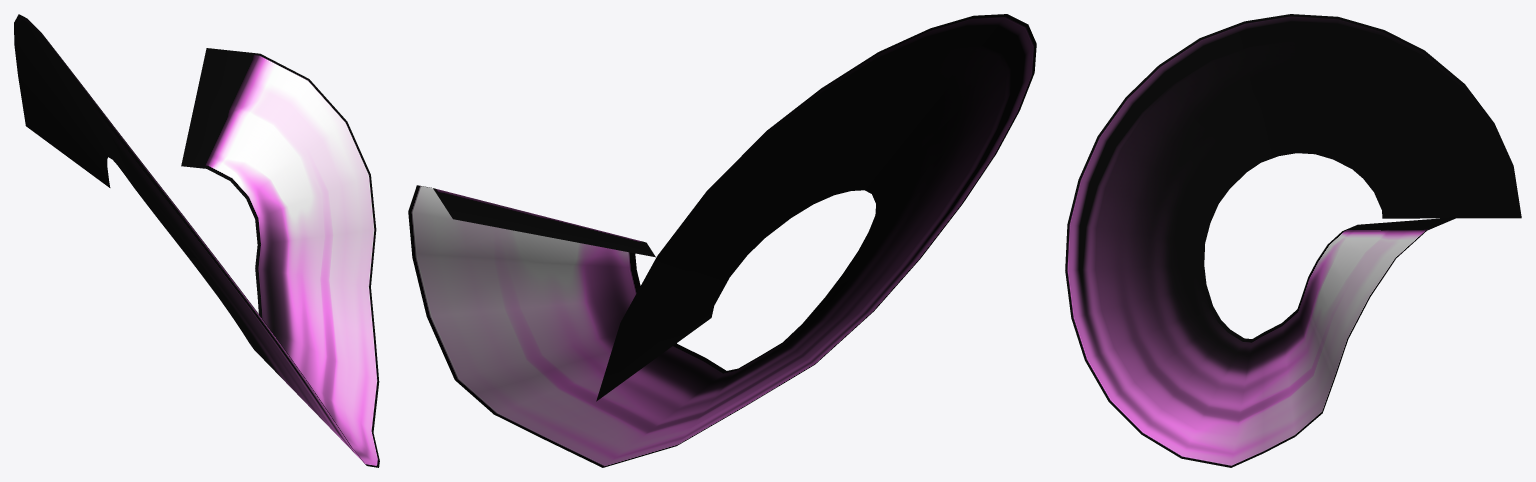
Rendered from Mesh_Snowwhite_002_wjl.FBX.
3 renders of one model, left to right at view 1: azimuth 30°, elevation 25°; view 2: azimuth 150°, elevation 25°; view 3: azimuth 270°, elevation 25°, orthographic. The views are drawn at different scales.
Visible parts, largest first — view 1: Plane002; view 2: Plane002; view 3: Plane002.
Part boxes in pixels (box(x1,y1,x2,y2)): Plane002: box(14, 14, 379, 467); Plane002: box(408, 14, 1036, 467); Plane002: box(1065, 14, 1521, 467).
Bounding box in the file's own units: 171 × 196 × 236.
